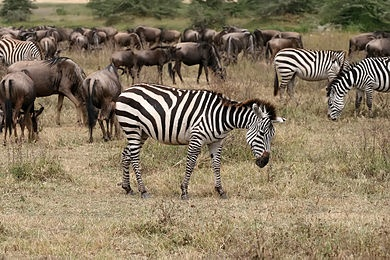zebra: (110, 83, 283, 200), (321, 53, 389, 125), (269, 44, 349, 101)
